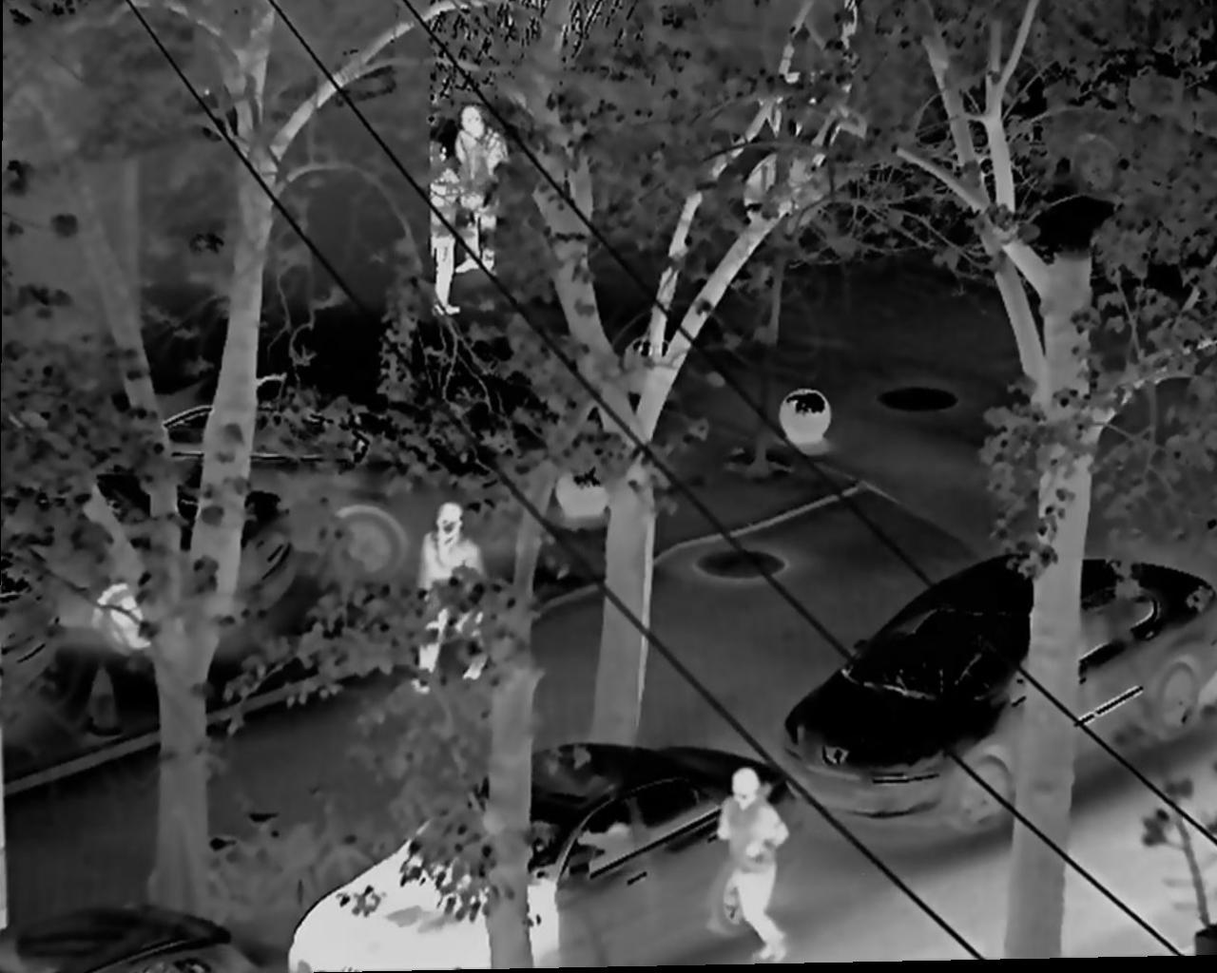person: (410, 502, 493, 683), (718, 767, 791, 960), (454, 105, 512, 275), (427, 140, 462, 313)
